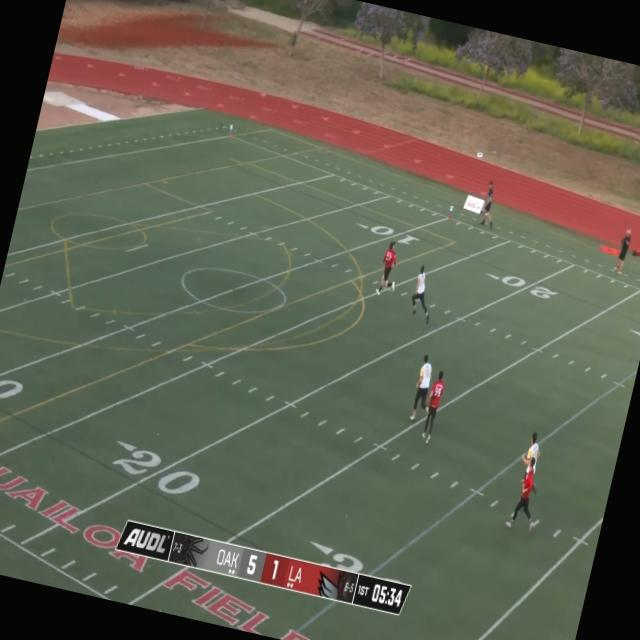Disc: (476, 151, 483, 158)
Player: (504, 454, 548, 536), (406, 262, 446, 330), (407, 352, 441, 423), (514, 431, 548, 500), (419, 368, 448, 444), (374, 238, 404, 302)
